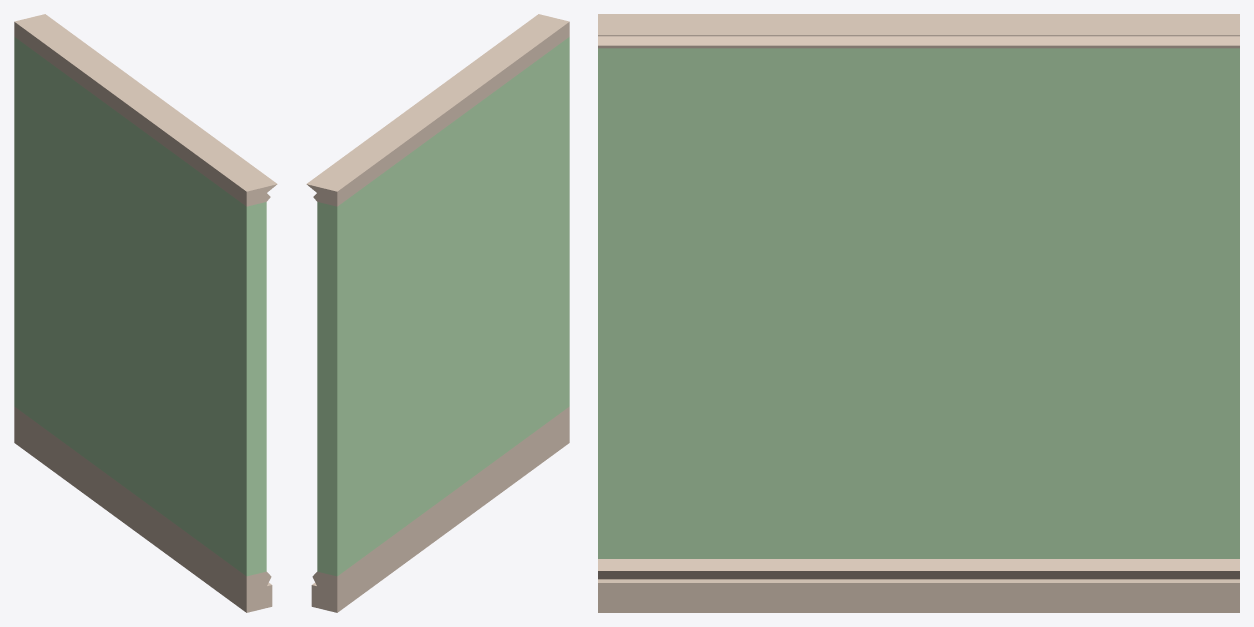
The model's file is Wall.fbx.
The picture shows the model from 3 angles, left to right: view 1: azimuth 30°, elevation 25°; view 2: azimuth 150°, elevation 25°; view 3: azimuth 270°, elevation 25°; orthographic projection. The views are drawn at different scales.
Parts seen in each view (by area): view 1: Cube; view 2: Cube; view 3: Cube.
Boxes of the visible parts, bbox=[...] form: Cube: bbox=[14, 14, 277, 612]; Cube: bbox=[306, 14, 569, 612]; Cube: bbox=[598, 14, 1239, 612].
Size of the model in its own units: 61.8 by 800 by 800.
